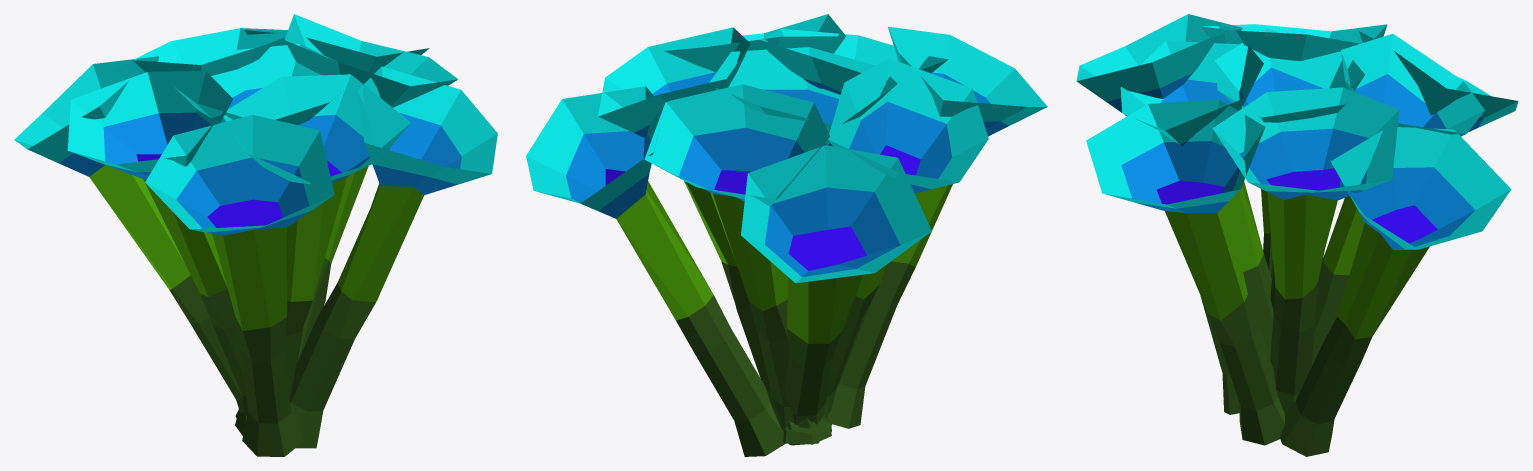
Rendered from BlueFlowers.fbx.
3 views of the same model, side by side, from view 1: azimuth 30°, elevation 25°; view 2: azimuth 150°, elevation 25°; view 3: azimuth 270°, elevation 25° (orthographic). The views are drawn at different scales.
Parts seen in each view (by area): view 1: Cylinder; view 2: Cylinder; view 3: Cylinder.
Boxes of the visible parts, box(x1,y1,x2,y2) form: Cylinder: box(14, 14, 497, 456); Cylinder: box(526, 14, 1047, 456); Cylinder: box(1076, 14, 1518, 456).
Size of the model in its own units: 147 by 137 by 146.
